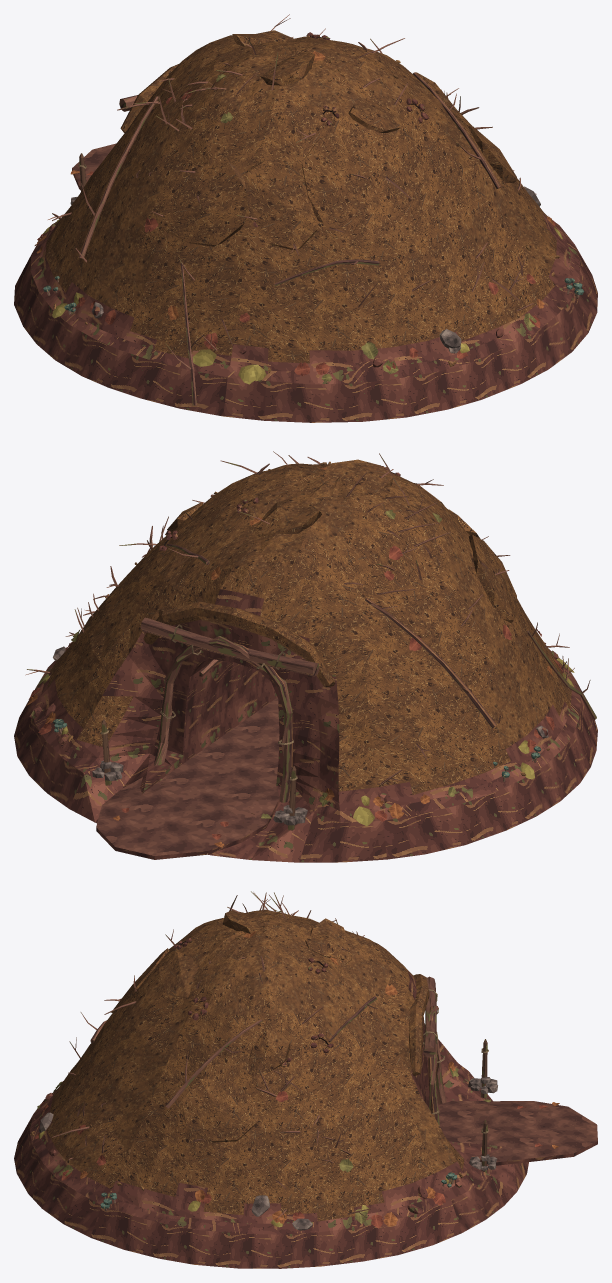
The model's file is SM_AN09_EntranceHill.fbx.
3 renders of one model, top to bottom at view 1: azimuth 30°, elevation 25°; view 2: azimuth 150°, elevation 25°; view 3: azimuth 270°, elevation 25°, orthographic. The views are drawn at different scales.
Visible parts, largest first — view 1: AN09h_Needles, AN09h_Earth, AN09h_Root, AN09h_Props, AN09h_Floor; view 2: AN09h_Needles, AN09h_Earth, AN09h_Floor, AN09h_Root, AN09h_Props, AN09h_Wood; view 3: AN09h_Needles, AN09h_Earth, AN09h_Floor, AN09h_Props, AN09h_Root.
Part boxes in pixels (<box>): AN09h_Needles: <box>45,30,556,363</box>; AN09h_Earth: <box>14,32,597,422</box>; AN09h_Root: <box>48,14,536,405</box>; AN09h_Props: <box>34,35,584,384</box>; AN09h_Floor: <box>72,143,116,186</box>; AN09h_Needles: <box>47,459,571,794</box>; AN09h_Earth: <box>14,466,597,862</box>; AN09h_Floor: <box>96,697,279,855</box>; AN09h_Root: <box>25,451,596,802</box>; AN09h_Props: <box>25,461,574,847</box>; AN09h_Wood: <box>101,719,296,830</box>; AN09h_Needles: <box>46,909,464,1221</box>; AN09h_Earth: <box>14,938,597,1268</box>; AN09h_Floor: <box>438,1101,597,1162</box>; AN09h_Props: <box>30,909,559,1230</box>; AN09h_Root: <box>52,891,446,1218</box>.
Bounding box in the file's own units: 16.44 × 8.68 × 18.79.
